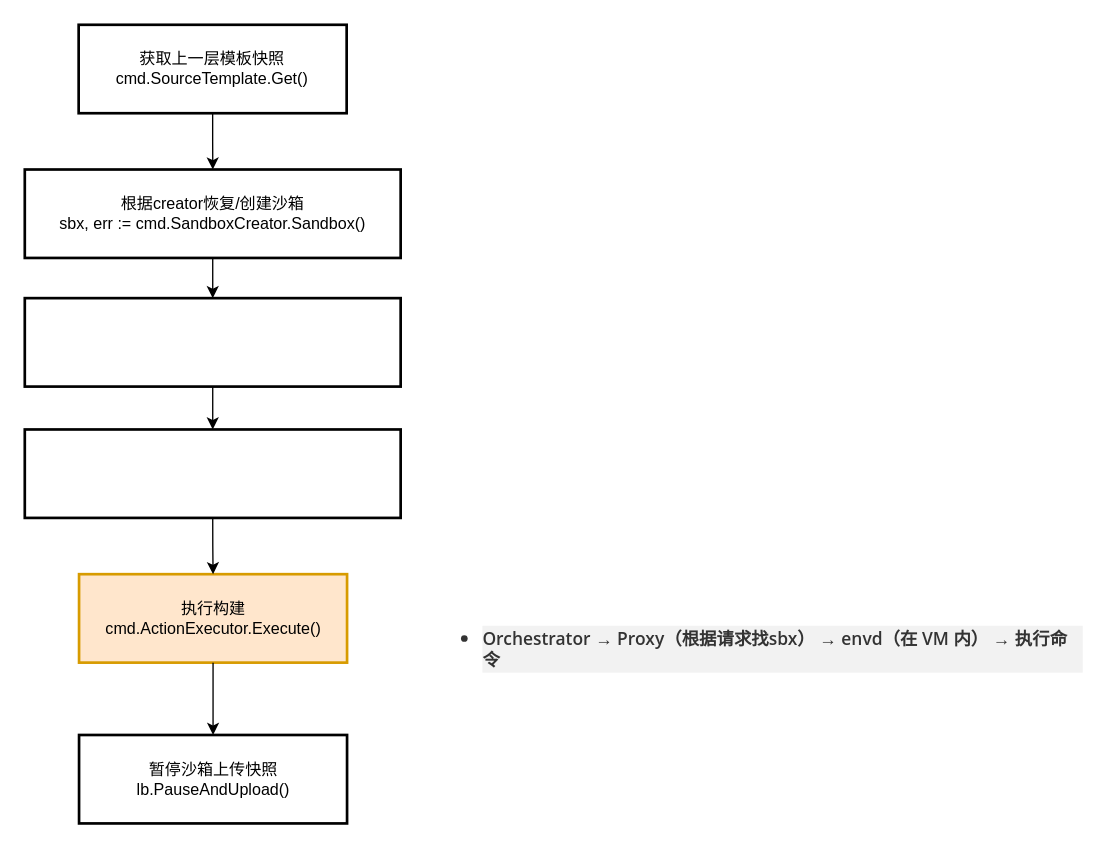
The diagram is 1106 pixels wide and 847 high, and some of its shapes have lost their labels. Here are the shapes that lost their labels. From the top down, the centre of each, then its label:
pixel 212 341: 上一步的沙箱注册到proxy，让proxy能找到他 lb.sandboxes.Insert(sbx)
pixel 212 473: 更新envd if cmd.UpdateEnvd { err = lb.updateEnvdInSandbox(ctx, userLogger, sbx)
